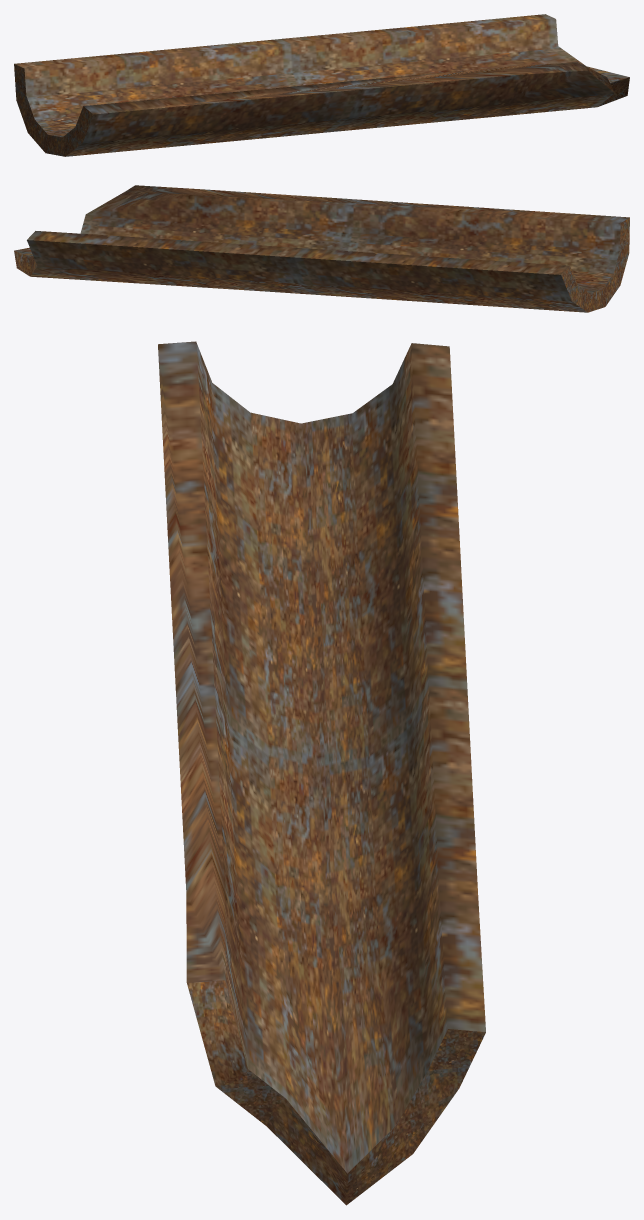
File: CH09_SMAUG_PLAYSURFACE_CAVE16.fbx
3 views of the same model, one above another, from view 1: azimuth 30°, elevation 25°; view 2: azimuth 150°, elevation 25°; view 3: azimuth 270°, elevation 25° (orthographic). The views are drawn at different scales.
Parts seen in each view (by area): view 1: CH09_SMAUG_PLAYSURFACE_CAVE16; view 2: CH09_SMAUG_PLAYSURFACE_CAVE16; view 3: CH09_SMAUG_PLAYSURFACE_CAVE16.
Boxes of the visible parts, x1,y1,x2,y2 form: CH09_SMAUG_PLAYSURFACE_CAVE16: [14, 14, 629, 156]; CH09_SMAUG_PLAYSURFACE_CAVE16: [14, 185, 629, 312]; CH09_SMAUG_PLAYSURFACE_CAVE16: [158, 341, 485, 1205].
Size of the model in its own units: 145592 by 37369 by 35706.
Materials: 1 (1 with a texture image).
